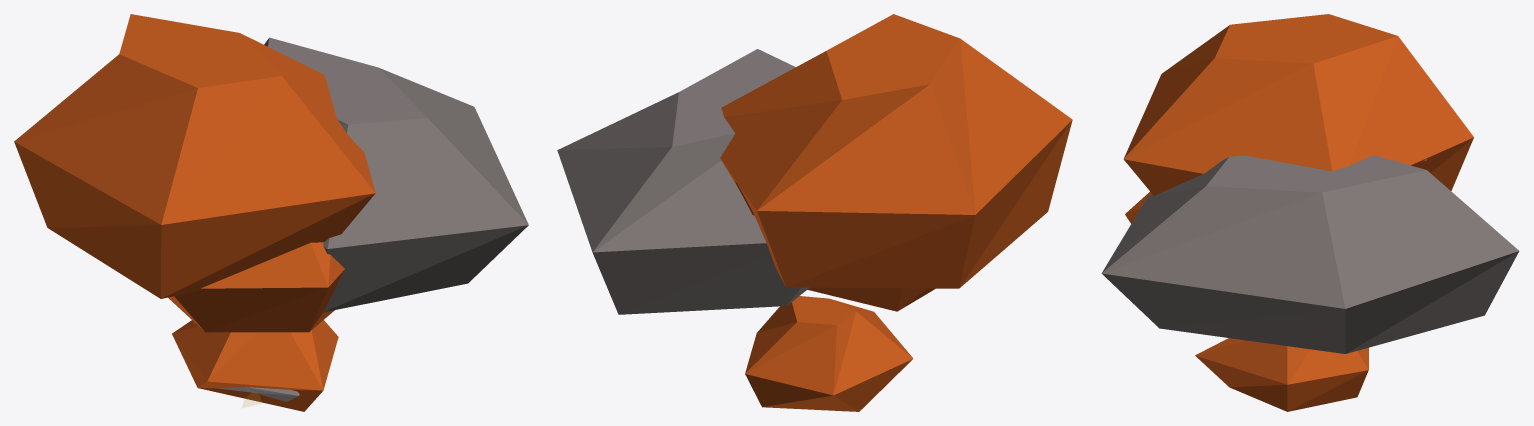
File: tekton_meteor_splat.glb
3 views of the same model, side by side, from view 1: azimuth 30°, elevation 25°; view 2: azimuth 150°, elevation 25°; view 3: azimuth 270°, elevation 25° (orthographic). The views are drawn at different scales.
Bounding box in the file's own units: 39.56 × 30.03 × 36.
Materials: 2 (2 with a texture image).
